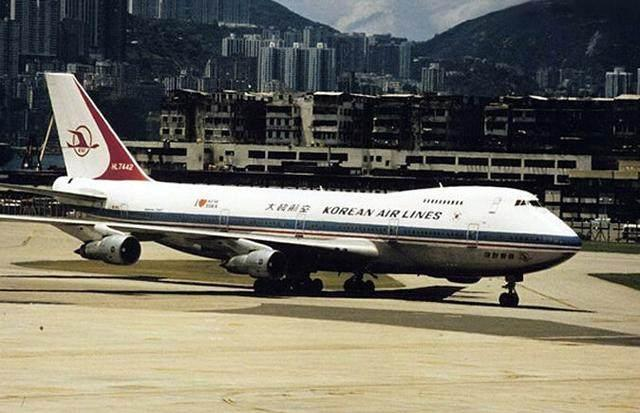airplane: (26, 70, 585, 305)
